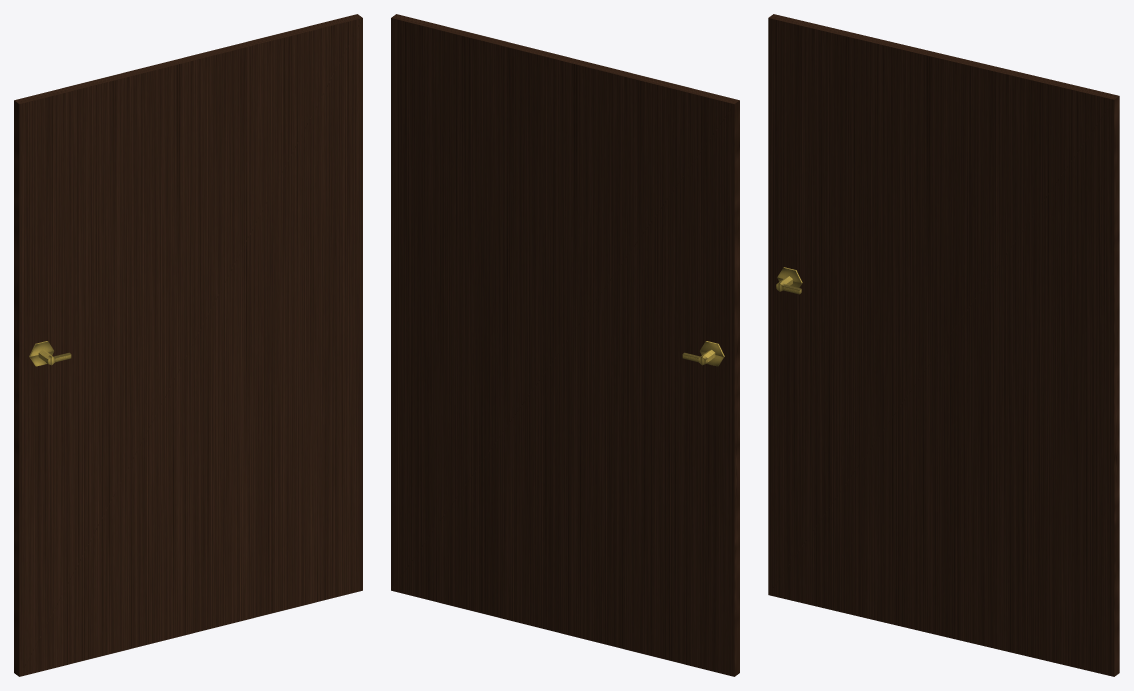
Rendered from fencegate.fbx.
3 views of the same model, side by side, from view 1: azimuth 30°, elevation 25°; view 2: azimuth 150°, elevation 25°; view 3: azimuth 330°, elevation 25° (orthographic).
Parts seen in each view (by area): view 1: gateway; view 2: gateway; view 3: gateway.
Boxes of the visible parts, left/top/right/bottom form: gateway: left=14, top=14, right=362, bottom=676; gateway: left=391, top=14, right=739, bottom=676; gateway: left=768, top=14, right=1119, bottom=676.
Size of the model in its own units: 4.82 by 7.72 by 0.6385.
